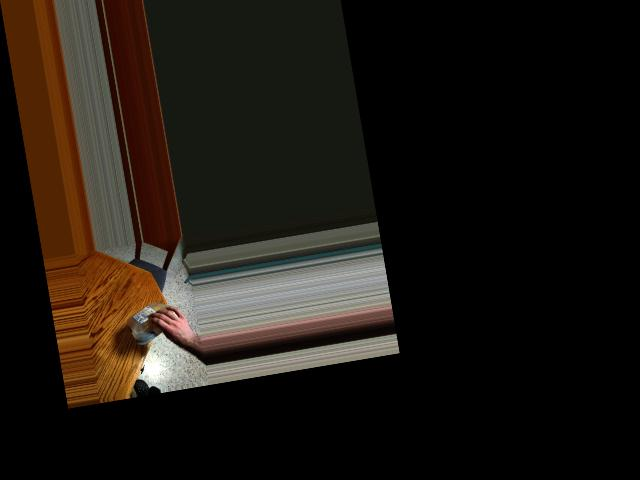cheese: (128, 305, 173, 341)
